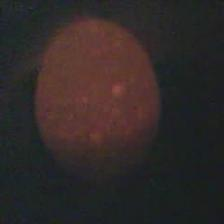fertile: (32, 16, 164, 180)
